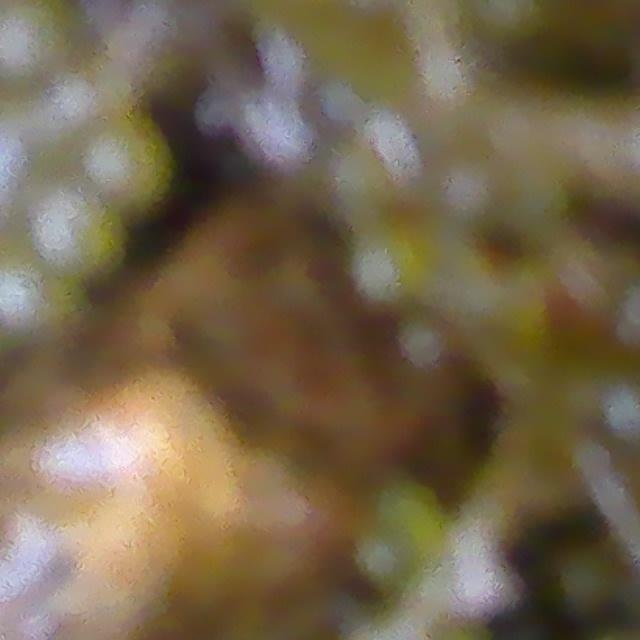SeaGrape: (81, 117, 177, 214), (29, 198, 117, 277), (0, 259, 68, 338)
